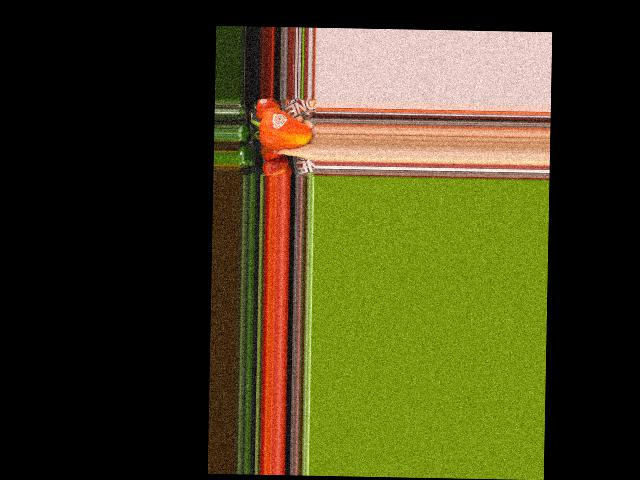bell_pepper: (249, 106, 311, 154)
